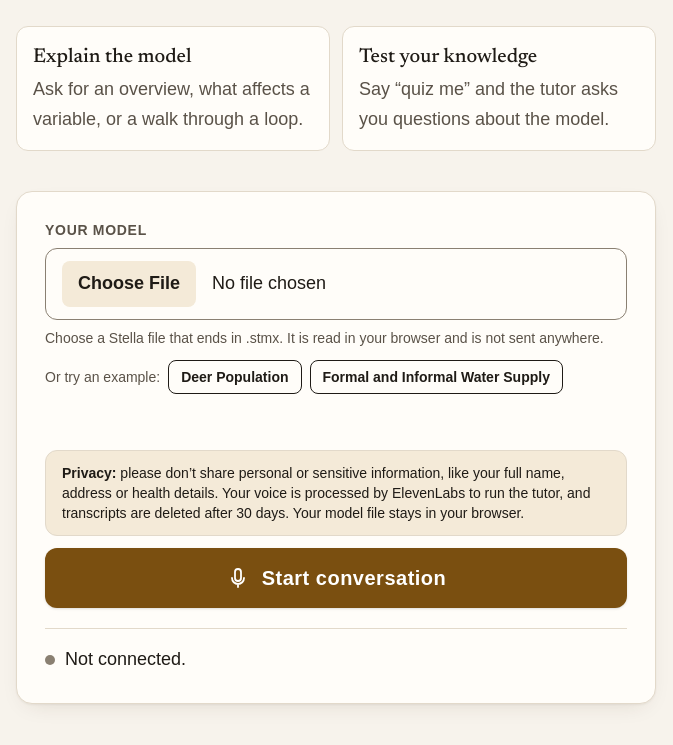
loading a model › loads a built-in example
The image size is (673, 745).
(page scrolled)
Click the button "Deer Population" at (235, 377), box [168,360,302,394]
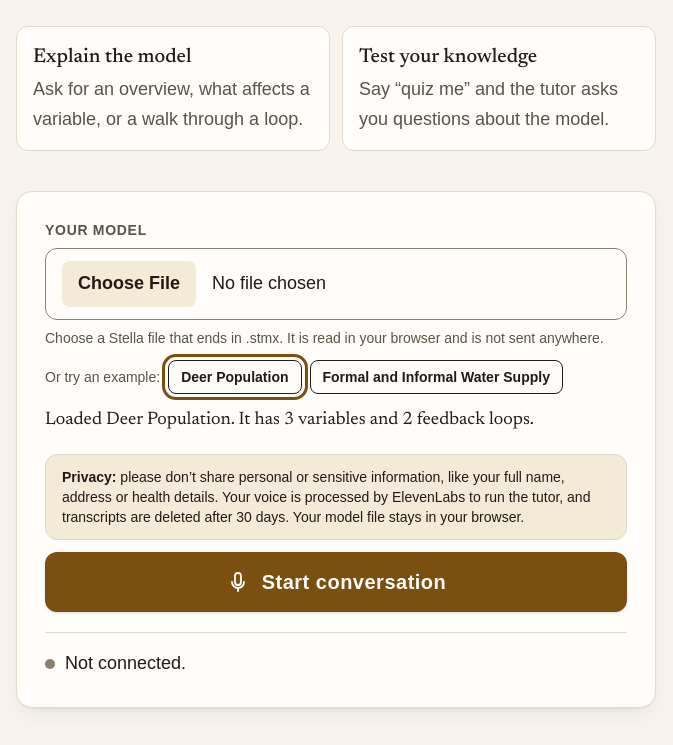
Expected: the text "Loaded Deer Population. It has 3 variables and 2 feedback loops." is shown, [45,411,534,429]
